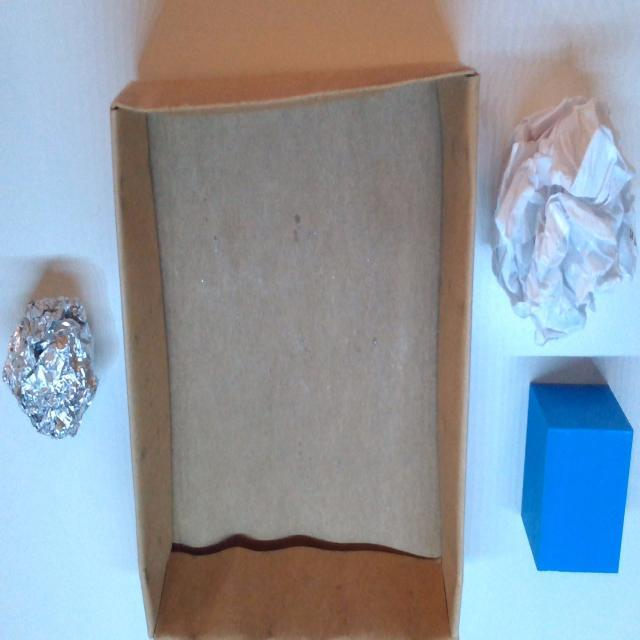Cardboard: (108, 69, 476, 640)
Paper: (486, 95, 633, 331)
